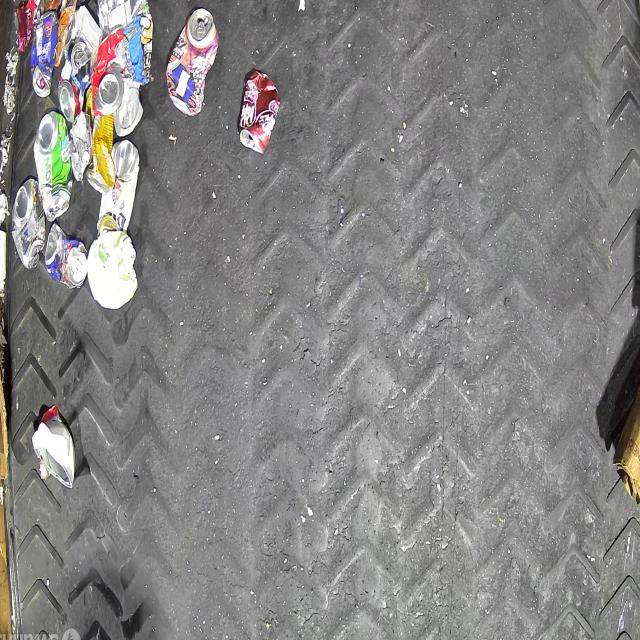can: (166, 7, 220, 116), (33, 110, 73, 222), (98, 138, 140, 237), (92, 26, 134, 116), (238, 68, 280, 154), (86, 83, 115, 194), (12, 177, 46, 269), (45, 221, 87, 289), (30, 10, 58, 96), (58, 59, 86, 123), (14, 0, 46, 53), (114, 80, 144, 136), (97, 0, 148, 31), (66, 39, 92, 79)
